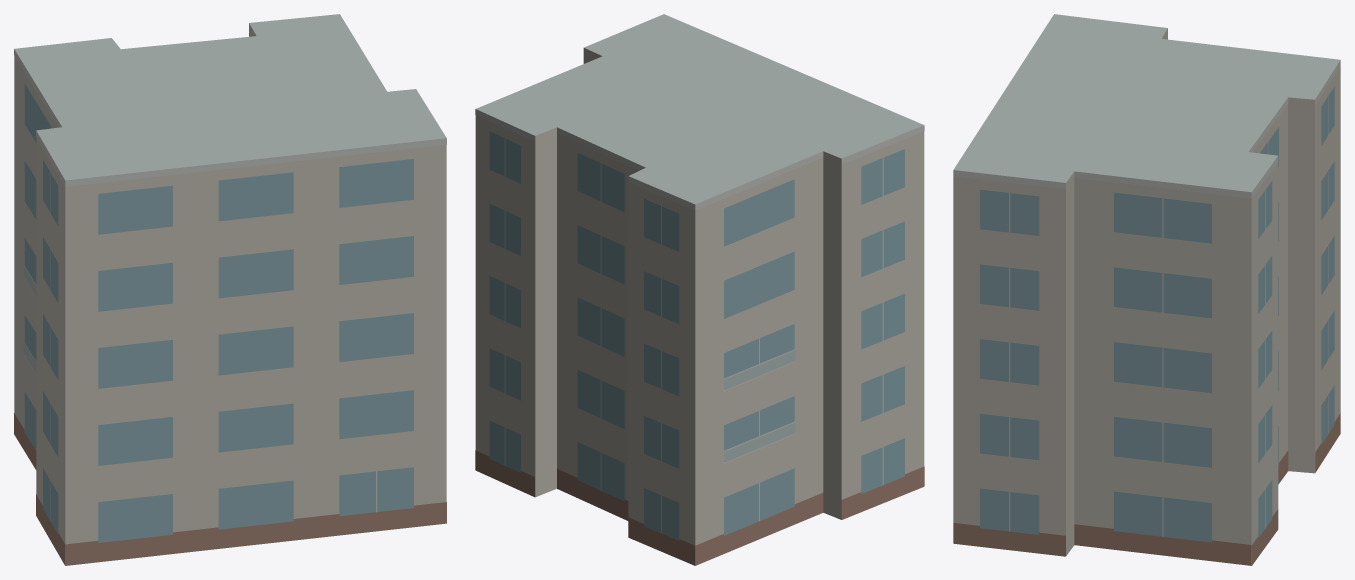
The model's file is survey-upis-32876956.glb.
The picture shows the model from 3 angles, left to right: view 1: azimuth 30°, elevation 25°; view 2: azimuth 150°, elevation 25°; view 3: azimuth 270°, elevation 25°; orthographic projection. The views are drawn at different scales.
Parts seen in each view (by area): view 1: survey-upis-32876956.tmp; view 2: survey-upis-32876956.tmp; view 3: survey-upis-32876956.tmp.
Part boxes in pixels (x1,y1,x2,y2): survey-upis-32876956.tmp: (14,14,446,565); survey-upis-32876956.tmp: (475,14,924,565); survey-upis-32876956.tmp: (953,14,1340,565).
Size of the model in its own units: 14.84 by 14.5 by 13.63.
